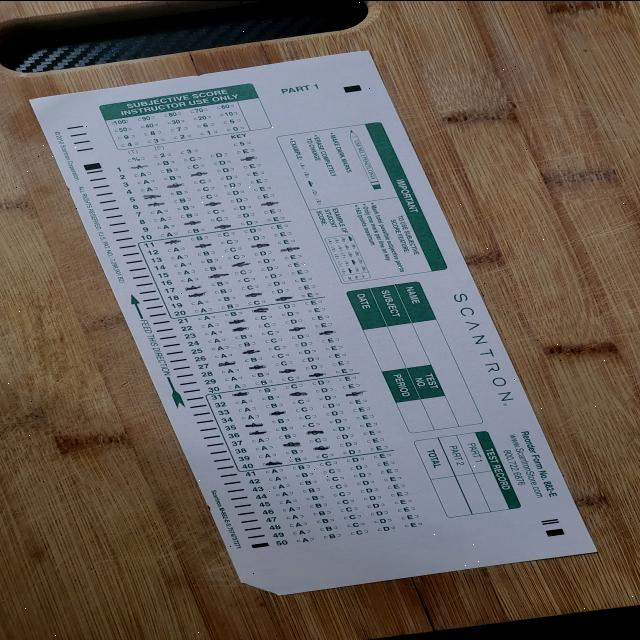scantron: (26, 48, 600, 595)
